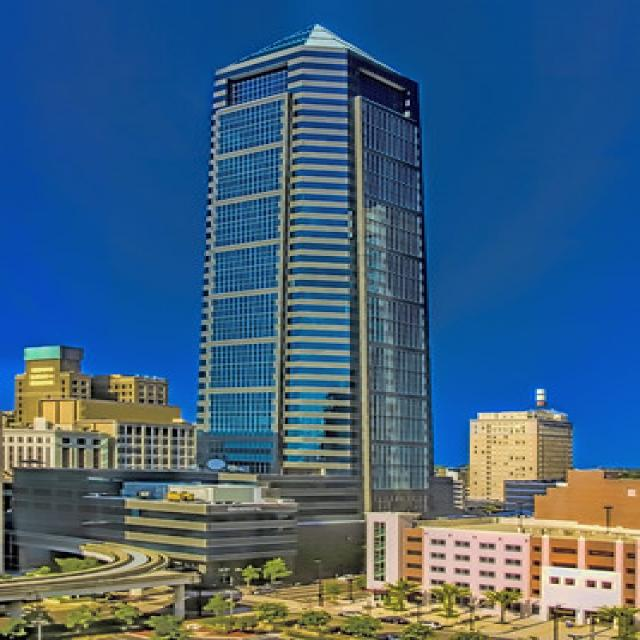Normal_building: (198, 26, 437, 579)
